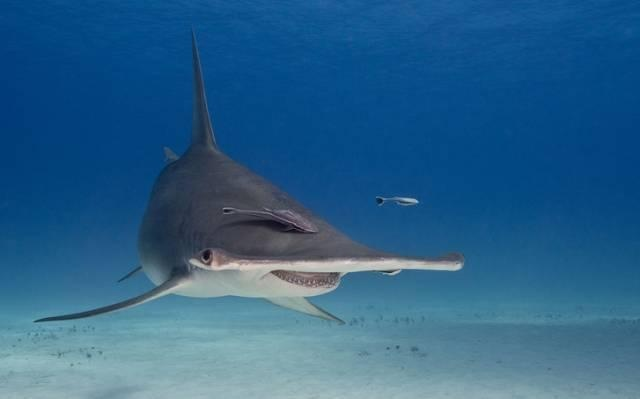fish: (26, 27, 466, 328)
